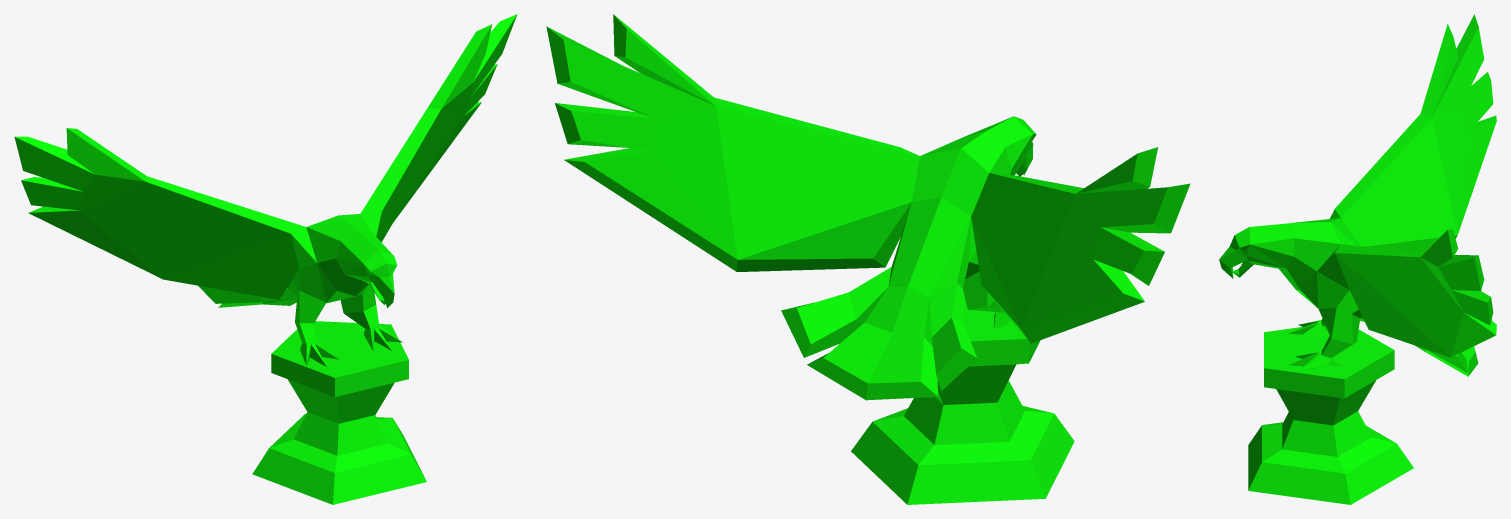
File: SM_Battlemap_Figurine_Eagle_Fantasy.fbx
The picture shows the model from 3 angles, left to right: view 1: azimuth 30°, elevation 25°; view 2: azimuth 150°, elevation 25°; view 3: azimuth 270°, elevation 25°; orthographic projection. The views are drawn at different scales.
Visible parts, largest first — view 1: battlemap-figurine-eagle-fantasy; view 2: battlemap-figurine-eagle-fantasy; view 3: battlemap-figurine-eagle-fantasy.
Boxes of the visible parts, x1=… form: battlemap-figurine-eagle-fantasy: x1=14, y1=14, x2=517, y2=504; battlemap-figurine-eagle-fantasy: x1=546, y1=14, x2=1190, y2=504; battlemap-figurine-eagle-fantasy: x1=1219, y1=14, x2=1496, y2=504.
Size of the model in its own units: 0.5052 by 0.33 by 0.2433.
